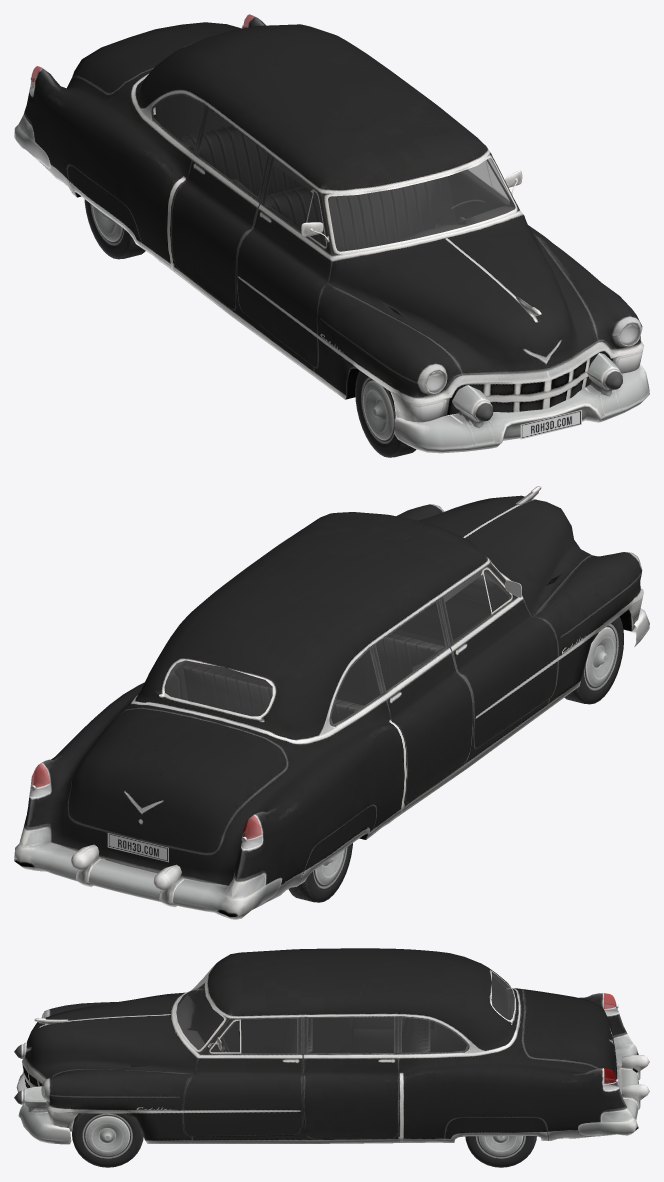
Rendered from sk-cadillac.glb.
3 views of the same model, one above another, from view 1: azimuth 30°, elevation 25°; view 2: azimuth 150°, elevation 25°; view 3: azimuth 270°, elevation 25° (orthographic). The views are drawn at different scales.
Visible parts, largest first — view 1: Object_2, Object_3, Object_4; view 2: Object_2, Object_3, Object_4; view 3: Object_2, Object_3, Object_4.
Boxes of the visible parts, x1,y1,x2,y2 form: Object_2: (14, 16, 649, 453); Object_3: (84, 95, 515, 457); Object_4: (30, 14, 639, 392); Object_2: (14, 486, 649, 919); Object_3: (164, 569, 623, 902); Object_4: (29, 561, 511, 848); Object_2: (14, 948, 649, 1144); Object_3: (72, 975, 536, 1167); Object_4: (41, 968, 618, 1097).
Bounding box in the file's own units: 195 × 169 × 596.
3 materials, 3 textured.
